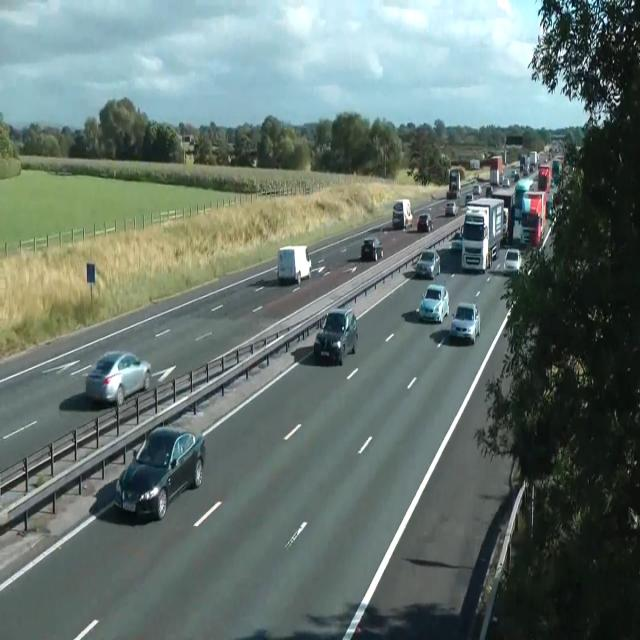bus: (114, 424, 206, 521), (85, 350, 151, 407), (450, 301, 480, 344), (418, 284, 449, 324), (414, 248, 440, 279), (361, 238, 383, 262), (503, 248, 521, 275), (417, 213, 433, 232), (450, 230, 462, 251), (444, 200, 458, 216), (546, 193, 554, 220), (472, 183, 482, 196), (502, 176, 510, 188), (512, 169, 520, 181), (465, 193, 473, 204), (485, 186, 493, 197)
car: (460, 196, 504, 272), (518, 190, 546, 247)
jeep: (314, 307, 358, 365)
minibus: (277, 244, 311, 284), (490, 188, 514, 244), (392, 199, 412, 229), (448, 167, 460, 197), (490, 156, 502, 186), (181, 133, 195, 152), (470, 159, 480, 169)
